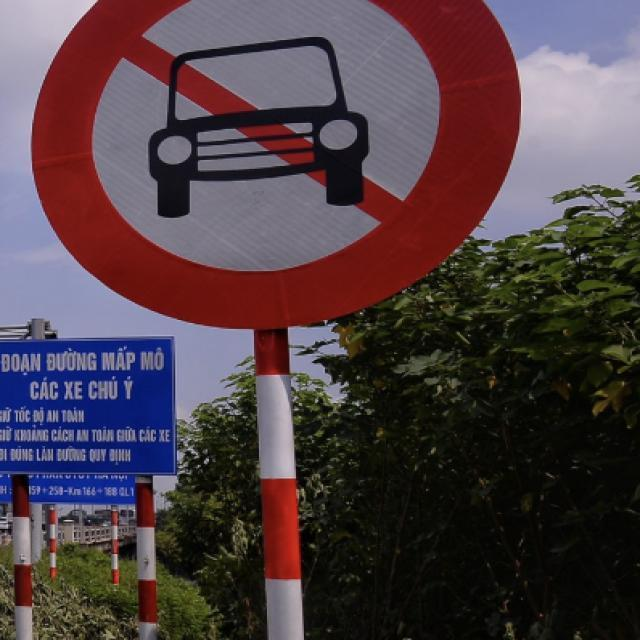103a-cam-oto: (31, 0, 524, 331)
